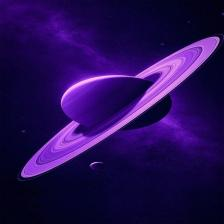purple: (19, 36, 221, 180), (61, 75, 153, 128), (121, 96, 172, 130)
